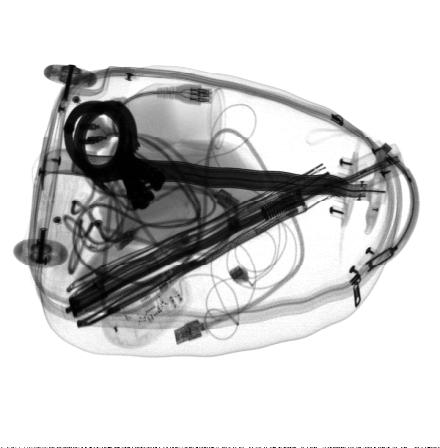HandCuffs: (59, 100, 167, 213)
